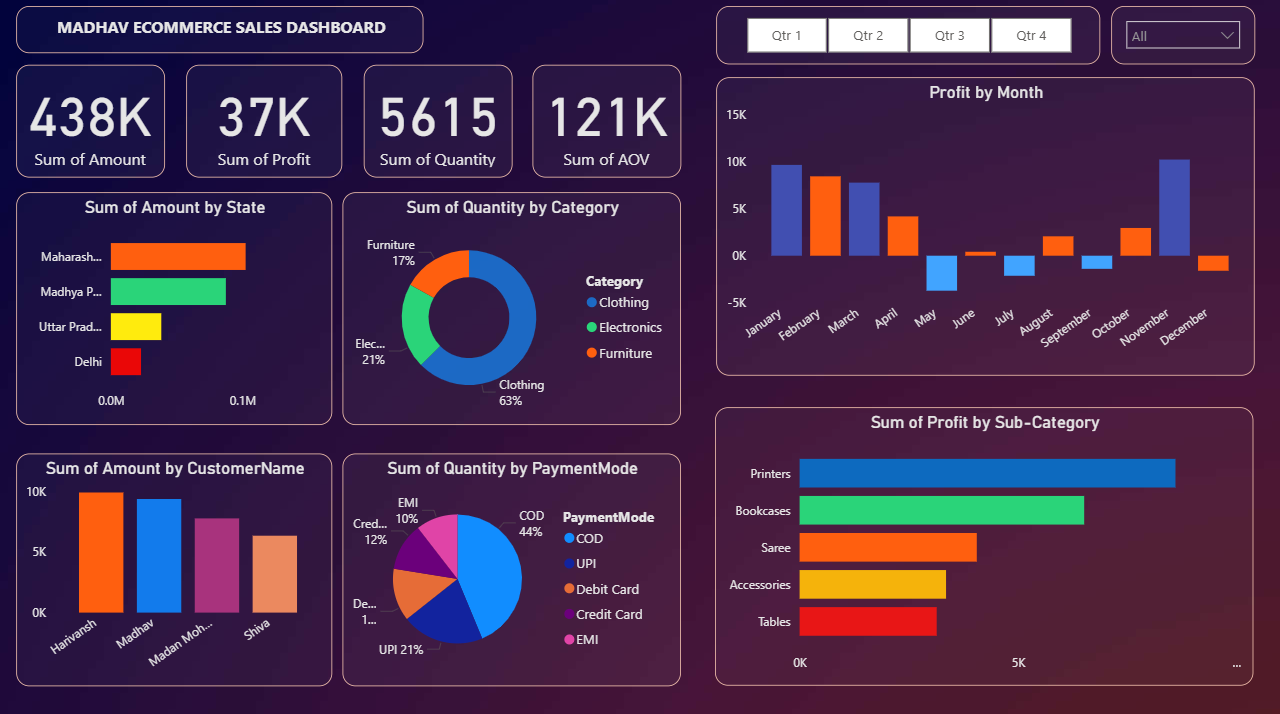

What the dashboard file says about the page in this screenshot:
{"tool":"powerbi","page":{"name":"Page 1","canvas":[1280,720],"ordinal":0},"visuals":[{"type":"textbox","box":[16.2,10,407.5,47.5],"z":0},{"type":"columnChart","title":"Profit by Month","fields":{"Y":["Details.Profit"],"Category":["Orders.Order Date.Variation.Date Hierarchy.Month"]},"box":[716.2,81.2,538.8,298.8],"z":1000},{"type":"barChart","fields":{"Category":["Details.Sub-Category"],"Y":["Details.Profit"]},"box":[715,411.2,538.8,278.8],"z":2000},{"type":"pieChart","fields":{"Y":["Details.Quantity"],"Category":["Details.PaymentMode"]},"box":[342.5,457.5,338.8,232.5],"z":3000},{"type":"donutChart","fields":{"Category":["Details.Category"],"Y":["Details.Quantity"]},"box":[342.5,196.2,338.8,232.5],"z":4000},{"type":"card","fields":{"Values":["Details.Amount"]},"box":[16.2,68.8,148.8,112.5],"z":4001},{"type":"card","fields":{"Values":["Details.AOV"]},"box":[532.5,68.8,148.8,112.5],"z":4005},{"type":"card","fields":{"Values":["Details.Quantity"]},"box":[363.8,68.8,148.8,112.5],"z":4006},{"type":"card","fields":{"Values":["Details.Profit"]},"box":[186.2,68.8,156.2,112.5],"z":4007},{"type":"barChart","fields":{"Category":["Orders.State"],"Y":["Details.Amount"]},"box":[16.2,196.2,316.2,232.5],"z":4008},{"type":"columnChart","fields":{"Category":["Orders.CustomerName"],"Y":["Details.Amount"]},"box":[16.2,457.5,316.2,232.5],"z":4009},{"type":"slicer","fields":{"Values":["Orders.Order Date.Variation.Date Hierarchy.Quarter"]},"box":[716.2,10,383.8,58.8],"z":4010},{"type":"slicer","fields":{"Values":["Orders.State"]},"box":[1111.2,10,143.8,58.8],"z":4011}]}

Visuals, with their boxes in screenshot pixels (x1, y1, x2, y2), scaled from the page's 1280x720 canvas onto the 1280x714 screenshot:
textbox: {"x1": 16, "y1": 10, "x2": 424, "y2": 57}
"Profit by Month" columnChart: {"x1": 716, "y1": 81, "x2": 1255, "y2": 377}
barChart - Details.Sub-Category x Details.Profit: {"x1": 715, "y1": 408, "x2": 1254, "y2": 684}
pieChart - Details.Quantity x Details.PaymentMode: {"x1": 342, "y1": 454, "x2": 681, "y2": 684}
donutChart - Details.Category x Details.Quantity: {"x1": 342, "y1": 195, "x2": 681, "y2": 425}
card - Details.Amount: {"x1": 16, "y1": 68, "x2": 165, "y2": 180}
card - Details.AOV: {"x1": 532, "y1": 68, "x2": 681, "y2": 180}
card - Details.Quantity: {"x1": 364, "y1": 68, "x2": 513, "y2": 180}
card - Details.Profit: {"x1": 186, "y1": 68, "x2": 342, "y2": 180}
barChart - Orders.State x Details.Amount: {"x1": 16, "y1": 195, "x2": 332, "y2": 425}
columnChart - Orders.CustomerName x Details.Amount: {"x1": 16, "y1": 454, "x2": 332, "y2": 684}
slicer - Orders.Order Date.Variation.Date Hierarchy.Quarter: {"x1": 716, "y1": 10, "x2": 1100, "y2": 68}
slicer - Orders.State: {"x1": 1111, "y1": 10, "x2": 1255, "y2": 68}
